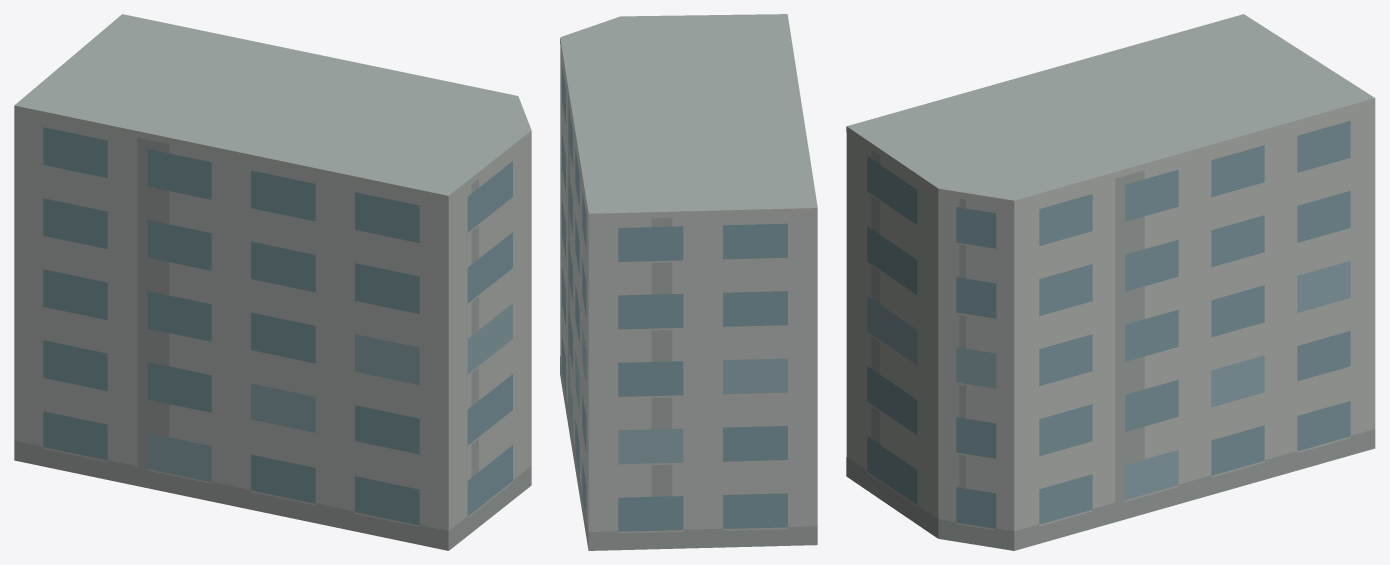
File: survey-upis-33026697.glb
The picture shows the model from 3 angles, left to right: view 1: azimuth 30°, elevation 25°; view 2: azimuth 150°, elevation 25°; view 3: azimuth 270°, elevation 25°; orthographic projection. The views are drawn at different scales.
Parts seen in each view (by area): view 1: survey-upis-33026697.tmp; view 2: survey-upis-33026697.tmp; view 3: survey-upis-33026697.tmp.
Part boxes in pixels (x1,y1,x2,y2): survey-upis-33026697.tmp: (14,14,531,550); survey-upis-33026697.tmp: (560,14,817,550); survey-upis-33026697.tmp: (846,14,1375,550).
Bounding box in the file's own units: 15.04 × 13.15 × 18.
